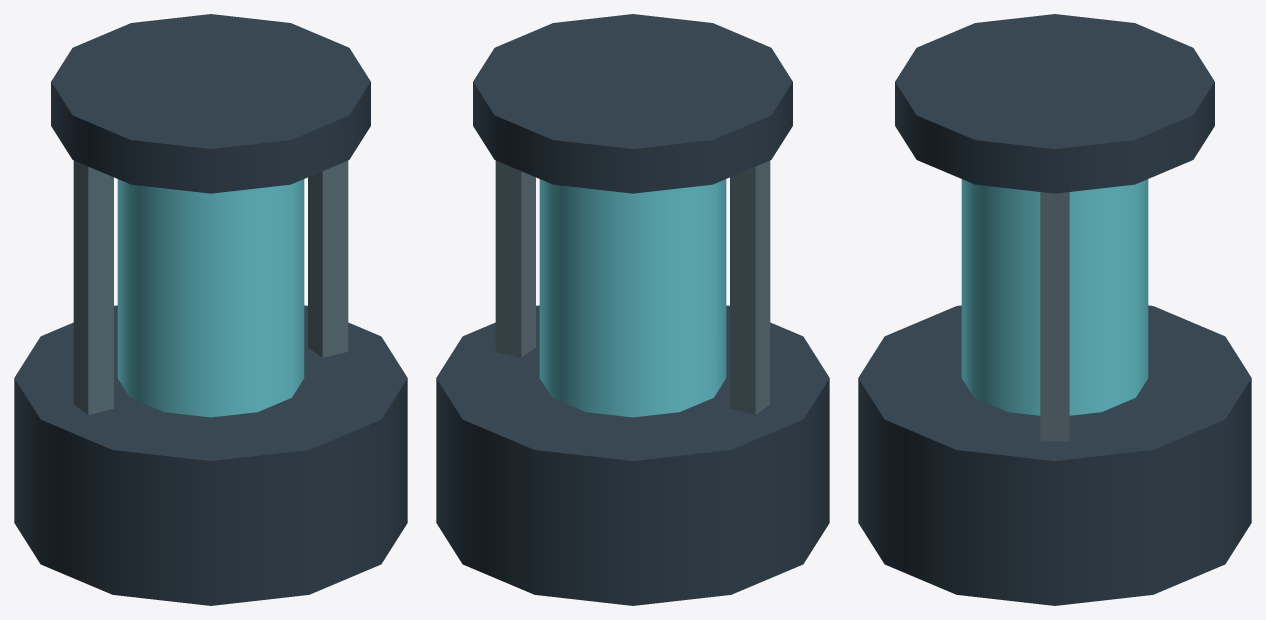
Rendered from extractor.glb.
3 renders of one model, left to right at view 1: azimuth 30°, elevation 25°; view 2: azimuth 150°, elevation 25°; view 3: azimuth 270°, elevation 25°, orthographic.
Parts seen in each view (by area): view 1: Extractor; view 2: Extractor; view 3: Extractor.
Part boxes in pixels (<box>): Extractor: <box>14,14,407,605</box>; Extractor: <box>436,14,829,605</box>; Extractor: <box>858,14,1251,605</box>.
Size of the model in its own units: 1.6 by 1.98 by 1.6.
